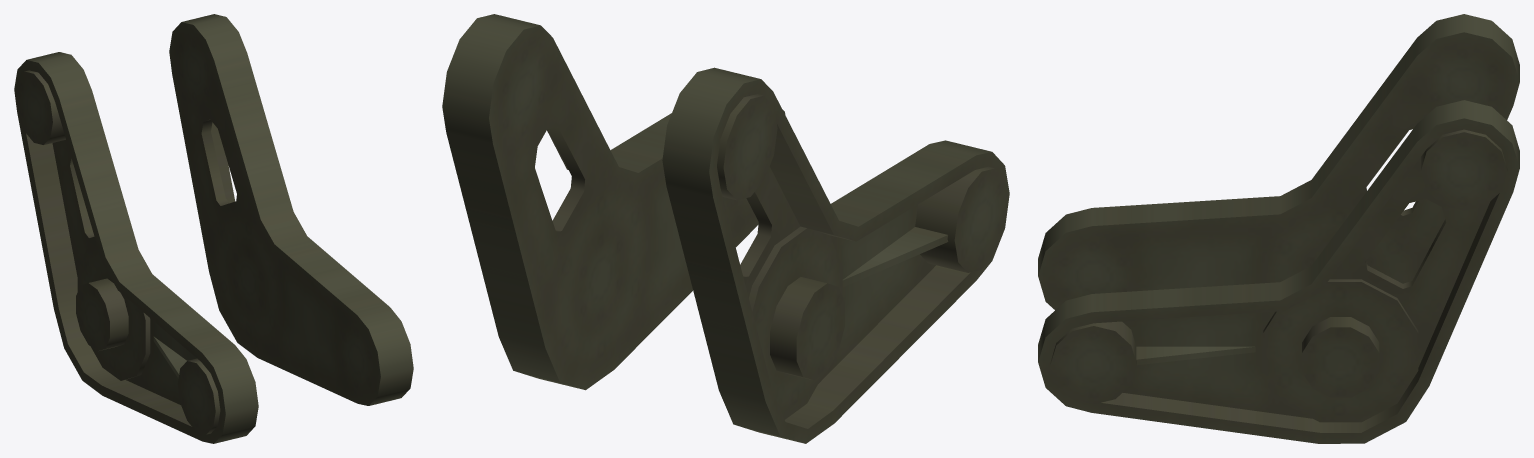
Rendered from T-35_Sus_Rear.fbx.
3 renders of one model, left to right at view 1: azimuth 30°, elevation 25°; view 2: azimuth 150°, elevation 25°; view 3: azimuth 270°, elevation 25°, orthographic. The views are drawn at different scales.
Parts seen in each view (by area): view 1: T-35_Sus_Rear; view 2: T-35_Sus_Rear; view 3: T-35_Sus_Rear.
Part boxes in pixels (<box>): T-35_Sus_Rear: <box>14,14,413,443</box>; T-35_Sus_Rear: <box>442,14,1009,443</box>; T-35_Sus_Rear: <box>1038,14,1519,443</box>.
Bounding box in the file's own units: 0.42 × 0.5821 × 0.7804.
